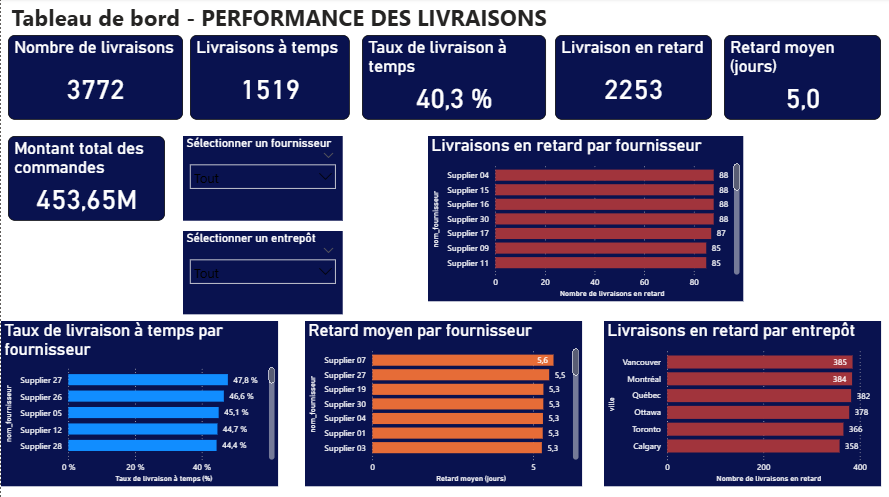

The page's visual inventory and layout, read from the dashboard file:
{"tool":"powerbi","page":{"name":"Performance des livraisons","canvas":[1280,720],"ordinal":1},"visuals":[{"type":"textbox","box":[10.1,0,826.6,53.3],"z":0},{"type":"card","title":"Nombre de livraisons","fields":{"Values":["dwh Fact_Livraison.Nombre de livraisons"]},"box":[10.1,53.3,252,122.4],"z":1000},{"type":"card","title":"Livraisons à temps","fields":{"Values":["dwh Fact_Livraison.Livraisons à temps"]},"box":[272.2,53.3,230.4,122.4],"z":2000},{"type":"card","title":"Taux de livraison à temps","fields":{"Values":["dwh Fact_Livraison.Taux de livraison à temps"]},"box":[519.8,53.3,265,122.4],"z":3000},{"type":"card","title":"Livraison en retard","fields":{"Values":["dwh Fact_Livraison.Livraisons en retard"]},"box":[797.8,53.3,226.1,122.4],"z":4000},{"type":"card","title":"Retard moyen (jours)","fields":{"Values":["dwh Fact_Livraison.Retard moyen (jours)"]},"box":[1041.1,53.3,226.1,122.4],"z":5000},{"type":"card","title":"Montant total des commandes","fields":{"Values":["dwh Fact_Livraison.Montant des commandes livrées"]},"box":[10.1,198.7,226.1,122.4],"z":6000},{"type":"clusteredBarChart","title":"Taux de livraison à temps par fournisseur","fields":{"Category":["dwh Dim_Fournisseur.nom_fournisseur"],"Y":["dwh Fact_Livraison.Taux de livraison à temps"]},"box":[0,465.1,398.9,237.6],"z":7000},{"type":"clusteredBarChart","title":"Livraisons en retard par fournisseur","fields":{"Category":["dwh Dim_Fournisseur.nom_fournisseur"],"Y":["dwh Fact_Livraison.Livraisons en retard"]},"box":[614.9,198.7,453.6,237.6],"z":8000},{"type":"clusteredBarChart","title":"Retard moyen par fournisseur","fields":{"Y":["dwh Fact_Livraison.Retard moyen (jours)"],"Category":["dwh Dim_Fournisseur.nom_fournisseur"]},"box":[437.8,465.1,398.9,237.6],"z":9000},{"type":"clusteredBarChart","title":"Livraisons en retard par entrepôt","fields":{"Category":["dwh Dim_Entrepot.ville"],"Y":["dwh Fact_Livraison.Livraisons en retard"]},"box":[868.3,465.1,398.9,237.6],"z":10000},{"type":"slicer","title":"Sélectionner un fournisseur","fields":{"Values":["dwh Dim_Fournisseur.nom_fournisseur"]},"box":[262.1,198.7,230.4,122.4],"z":11000},{"type":"slicer","title":"Sélectionner un entrepôt","fields":{"Values":["dwh Dim_Entrepot.ville"]},"box":[262.1,335.5,230.4,119.5],"z":12000}]}

Visuals, with their boxes in screenshot pixels (x1, y1, x2, y2), scaled from the page's 1280x720 canvas onto the 889x497 screenshot:
textbox: rect(7, 0, 581, 37)
"Nombre de livraisons" card: rect(7, 37, 182, 121)
"Livraisons à temps" card: rect(189, 37, 349, 121)
"Taux de livraison à temps" card: rect(361, 37, 545, 121)
"Livraison en retard" card: rect(554, 37, 711, 121)
"Retard moyen (jours)" card: rect(723, 37, 880, 121)
"Montant total des commandes" card: rect(7, 137, 164, 222)
"Taux de livraison à temps par fournisseur" clusteredBarChart: rect(0, 321, 277, 485)
"Livraisons en retard par fournisseur" clusteredBarChart: rect(427, 137, 742, 301)
"Retard moyen par fournisseur" clusteredBarChart: rect(304, 321, 581, 485)
"Livraisons en retard par entrepôt" clusteredBarChart: rect(603, 321, 880, 485)
"Sélectionner un fournisseur" slicer: rect(182, 137, 342, 222)
"Sélectionner un entrepôt" slicer: rect(182, 232, 342, 314)
